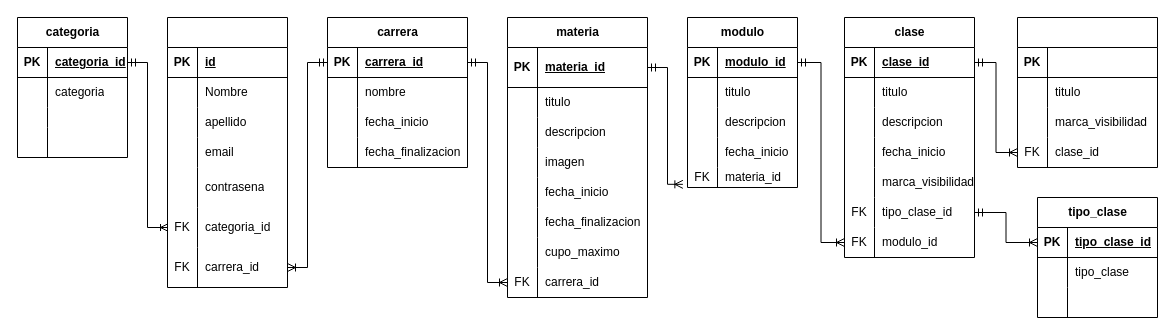
Some shapes in this 1175 by 335 pixel diagram are drawn without their labels. Here are the shapes that lost their labels. From the top down, the box of each, then its label:
(1016, 16, 1158, 168): Bloque
(166, 16, 288, 288): usuario
